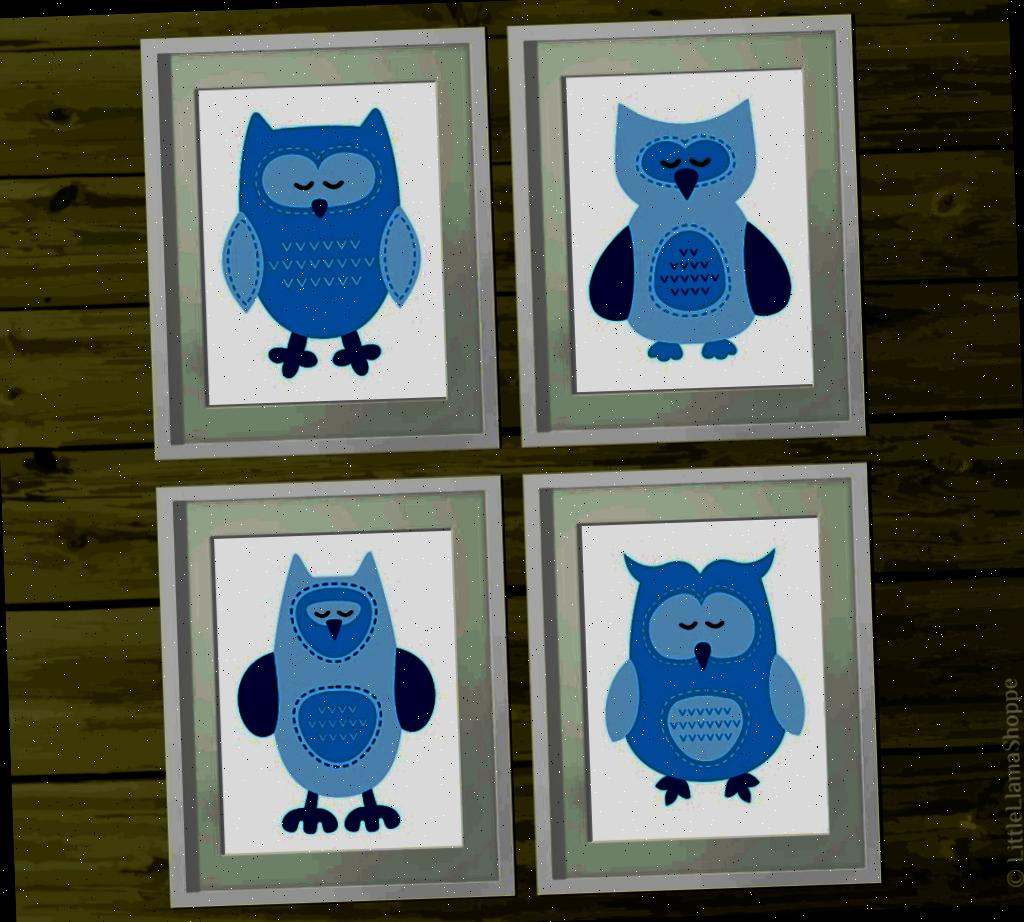Owl: (574, 517, 846, 859), (204, 88, 428, 395), (571, 72, 798, 366), (224, 552, 440, 850)
